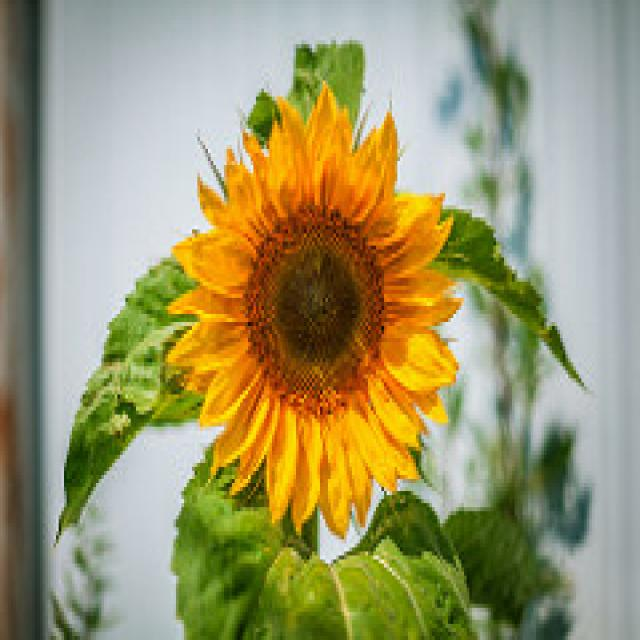sunflower: (157, 74, 467, 554)
